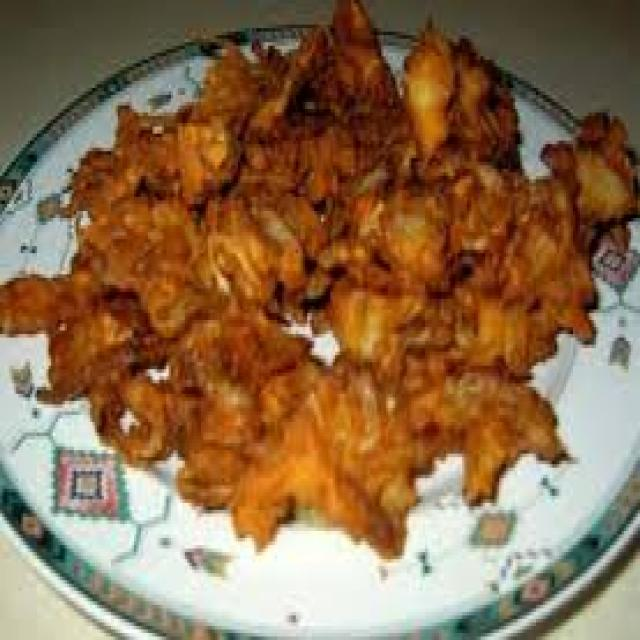BAJI: (0, 0, 638, 559)
